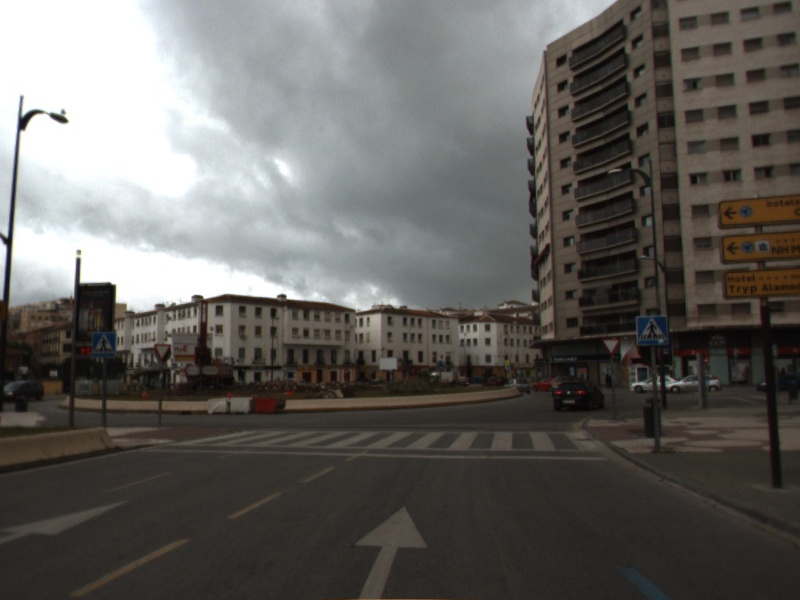STRAIGHT: (349, 502, 432, 600), (1, 496, 136, 554)
